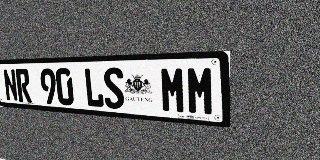0: (55, 68, 74, 106)
9: (40, 68, 58, 105)
L: (83, 68, 105, 108)
M: (186, 66, 215, 116), (160, 66, 186, 114)
N: (3, 69, 19, 102)
R: (15, 69, 32, 103)
S: (103, 67, 125, 109)
